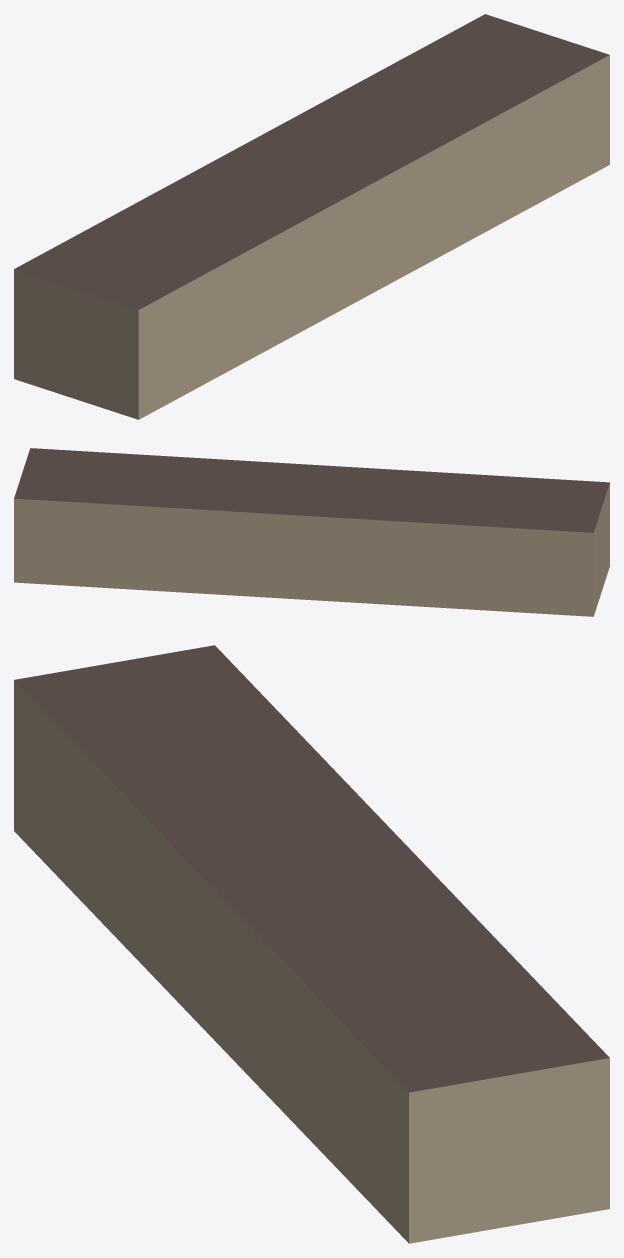
3 views of the same model, one above another, from view 1: azimuth 30°, elevation 25°; view 2: azimuth 150°, elevation 25°; view 3: azimuth 270°, elevation 25° (orthographic). The views are drawn at different scales.
Visible parts, largest first — view 1: HP-w1544735749; view 2: HP-w1544735749; view 3: HP-w1544735749.
Part boxes in pixels (left/top/right/bottom): HP-w1544735749: left=14, top=14, right=609, bottom=419; HP-w1544735749: left=14, top=448, right=609, bottom=616; HP-w1544735749: left=14, top=645, right=609, bottom=1243.
Size of the model in its own units: 57.13 by 9 by 32.16.
